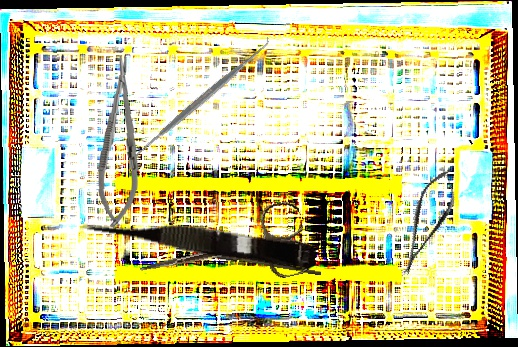Iris Scissors: (132, 199, 314, 309)
Micro Scissor: (78, 207, 318, 271), (387, 161, 467, 282)
Needle Holder: (94, 55, 146, 229)
Spatula Surgical: (124, 34, 278, 168)
Surgical Spoon: (175, 245, 322, 276)
